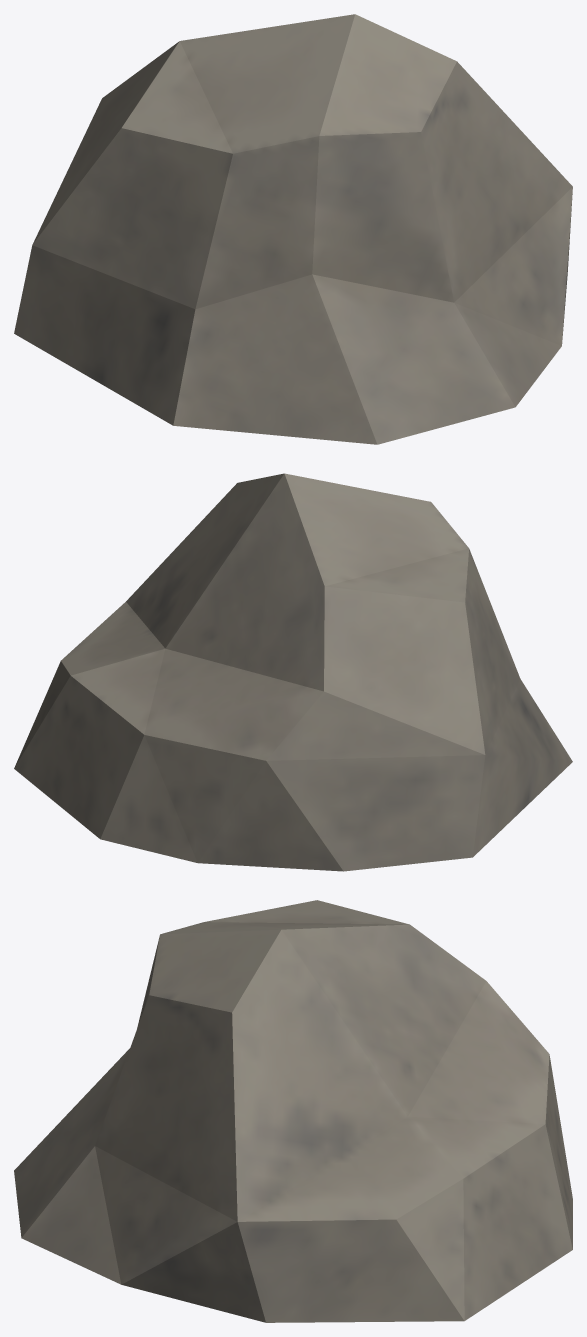
Rendered from Rock_03.fbx.
3 renders of one model, top to bottom at view 1: azimuth 30°, elevation 25°; view 2: azimuth 150°, elevation 25°; view 3: azimuth 270°, elevation 25°, orthographic. The views are drawn at different scales.
Parts seen in each view (by area): view 1: Icosphere.001; view 2: Icosphere.001; view 3: Icosphere.001.
Part boxes in pixels (box(x1,y1,x2,y2)): Icosphere.001: box(14, 14, 572, 444); Icosphere.001: box(14, 473, 572, 871); Icosphere.001: box(14, 900, 572, 1322).
Bounding box in the file's own units: 87.78 × 53.08 × 90.98.
